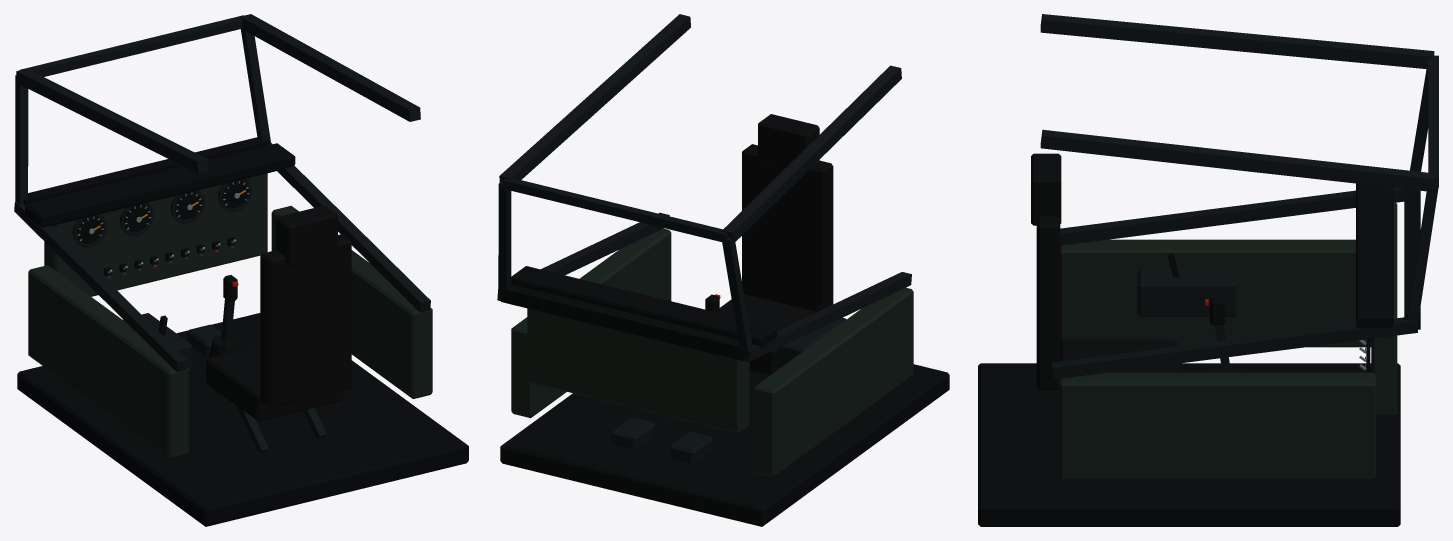
The model's file is Cockpit_FixedWing.obj.
The picture shows the model from 3 angles, left to right: view 1: azimuth 30°, elevation 25°; view 2: azimuth 150°, elevation 25°; view 3: azimuth 270°, elevation 25°; orthographic projection. The views are drawn at different scales.
Parts seen in each view (by area): view 1: Floor, Side_console, Seat_back, Main_panel, Side_console.001, Glare_shield, Seat_cushion, Canopy_roof_rail, Canopy_roof_rail.001, Cabin_lower_rail, Cabin_lower_rail.001, Headrest (+11 smaller); view 2: Floor, Main_panel, Side_console, Seat_back, Side_console.001, Glare_shield, Windscreen_sill, Canopy_roof_rail.001, Canopy_roof_rail, Windscreen_brow, Cabin_lower_rail, Headrest (+7 smaller); view 3: Side_console.001, Floor, Side_console, Canopy_roof_rail.001, Canopy_roof_rail, Cabin_lower_rail.001, Cabin_lower_rail, Glare_shield, Throttle_quadrant, Seat_back, Main_panel, Seat_cushion (+5 smaller).
Part boxes in pixels (<box>): Floor: <box>17,313,468,526</box>; Side_console: <box>28,265,189,458</box>; Seat_back: <box>260,234,351,407</box>; Main_panel: <box>44,173,267,296</box>; Side_console.001: <box>271,205,432,398</box>; Glare_shield: <box>25,143,295,227</box>; Seat_cushion: <box>206,345,342,421</box>; Canopy_roof_rail: <box>16,68,208,173</box>; Canopy_roof_rail.001: <box>240,14,420,121</box>; Cabin_lower_rail: <box>14,201,187,371</box>; Cabin_lower_rail.001: <box>269,143,430,312</box>; Headrest: <box>276,205,337,266</box>; Floor: <box>500,364,949,526</box>; Main_panel: <box>527,308,749,433</box>; Side_console: <box>753,287,913,477</box>; Seat_back: <box>742,144,833,311</box>; Side_console.001: <box>511,228,671,418</box>; Glare_shield: <box>511,266,776,348</box>; Windscreen_sill: <box>501,284,744,360</box>; Canopy_roof_rail.001: <box>499,14,690,182</box>; Canopy_roof_rail: <box>722,65,901,243</box>; Windscreen_brow: <box>502,178,727,242</box>; Cabin_lower_rail: <box>744,272,911,361</box>; Headrest: <box>758,114,819,173</box>; Side_console.001: <box>1059,372,1375,480</box>; Floor: <box>978,363,1400,526</box>; Side_console: <box>1060,239,1371,347</box>; Canopy_roof_rail.001: <box>1040,129,1434,191</box>; Canopy_roof_rail: <box>1040,14,1434,69</box>; Cabin_lower_rail.001: <box>1052,317,1417,379</box>; Cabin_lower_rail: <box>1060,188,1404,245</box>; Glare_shield: <box>1356,183,1393,328</box>; Throttle_quadrant: <box>1137,269,1236,316</box>; Seat_back: <box>1036,216,1060,389</box>; Main_panel: <box>1371,201,1397,416</box>; Seat_cushion: <box>1060,339,1177,372</box>.
Bounding box in the file's own units: 1.46 × 1.79 × 1.96.
